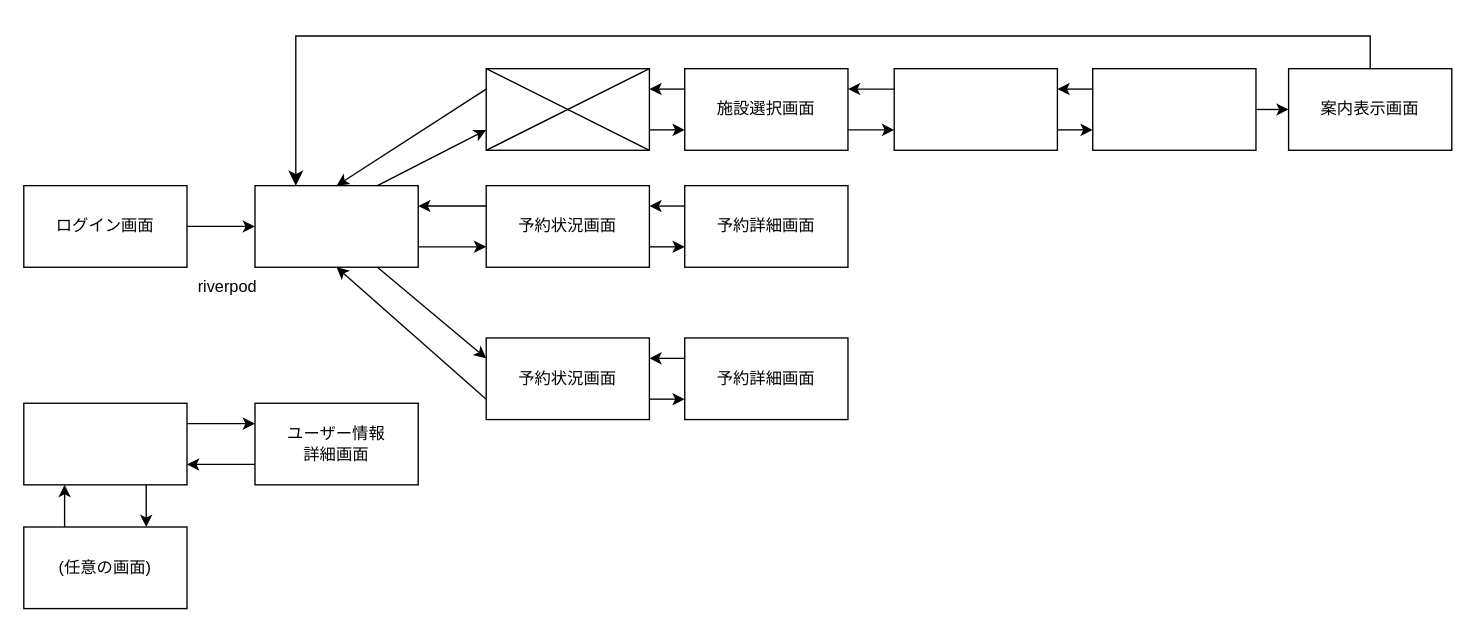
Some shapes in this 1476 by 632 pixel diagram are drawn without their labels. Here are the shapes that lost their labels. From the top down, the centre of each, then its label:
point (567, 108): 新規予約画面
point (975, 108): 予約詳細画面 - 日付選択画面
point (1173, 108): 予約詳細画面 - 必要情報入力画面
point (336, 225): メイン画面
point (104, 443): ユーザー情報 画面
